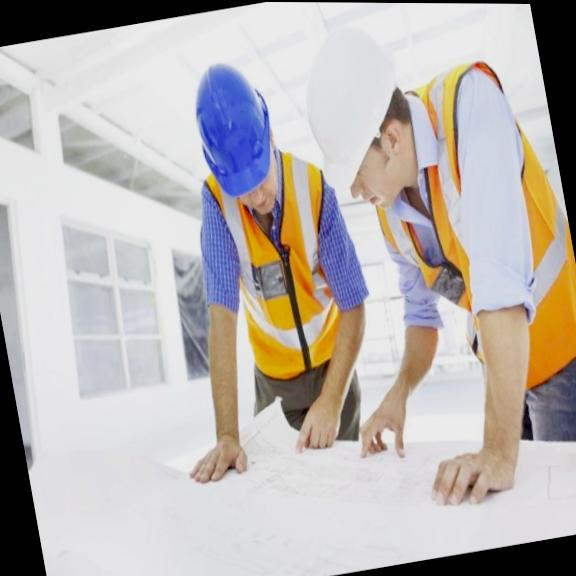safety_vest: (366, 46, 576, 416), (198, 146, 372, 394)
